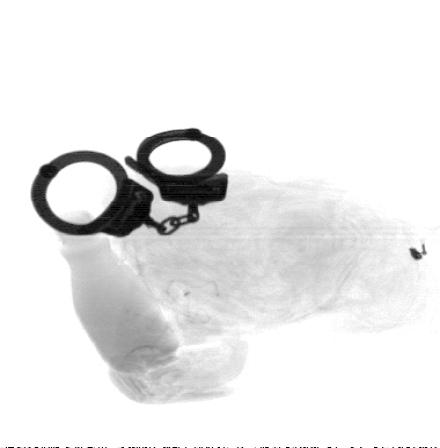HandCuffs: (29, 128, 231, 239)
